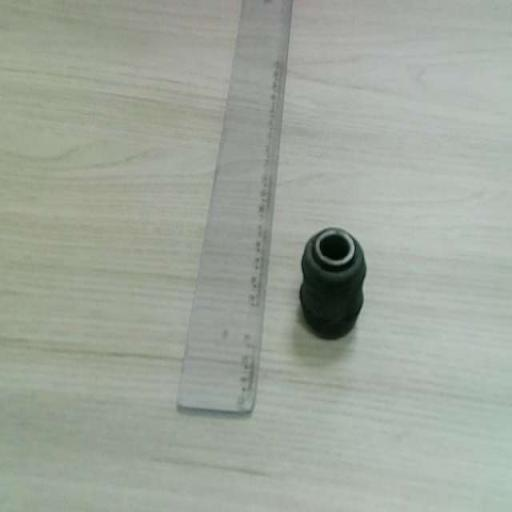peca: (299, 227, 366, 338)
